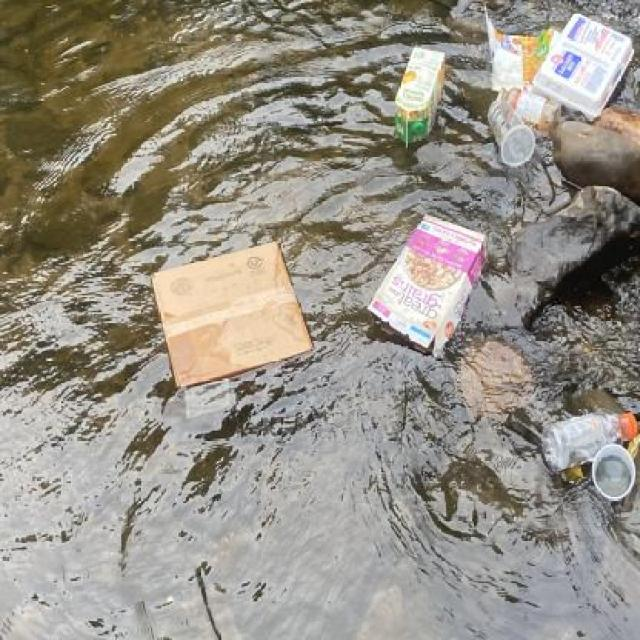Cardboard: (148, 236, 323, 435), (362, 204, 493, 367), (478, 0, 639, 114), (381, 42, 452, 152)
Plastic: (538, 404, 640, 498), (478, 91, 540, 172)
